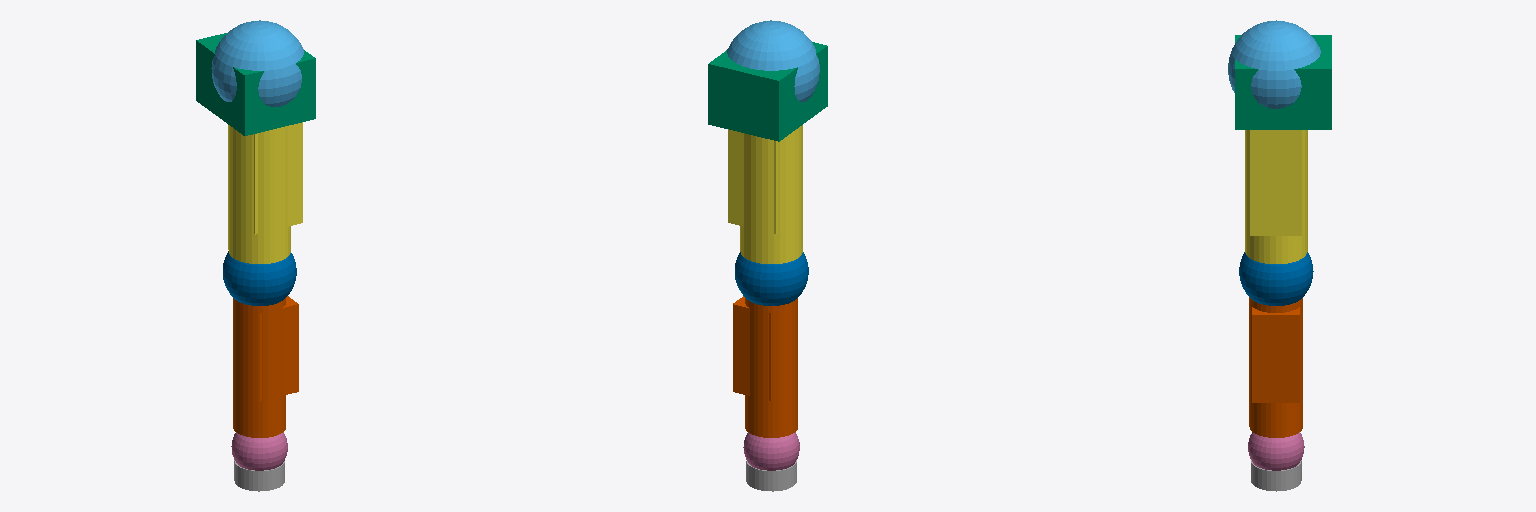
The robot description file, URDF, robot "giorgio_arm_l":
<robot name="giorgio_arm_l">
<link name="base_link"/>
<link name="link1"><inertial><origin xyz="0 0 -0.05"/><mass value="0.8"/><inertia ixx="0.004" iyy="0.004" izz="0.002" ixy="0" ixz="0" iyz="0"/></inertial>
<visual><origin xyz="0 0 0"/><geometry><sphere radius="0.065"/></geometry></visual>
</link>
<joint name="l_shoulder_pitch" type="revolute"><parent link="base_link"/><child link="link1"/><origin xyz="0 0 0"/><axis xyz="0 1 0"/><limit lower="-3.0" upper="1.0" effort="120.0" velocity="3.0"/></joint>
<link name="link2"><inertial><origin xyz="0 0 -0.05"/><mass value="0.9"/><inertia ixx="0.004" iyy="0.004" izz="0.002" ixy="0" ixz="0" iyz="0"/></inertial>
<visual><origin xyz="0 0.01 -0.02"/><geometry><box size="0.11 0.13 0.09"/></geometry></visual>
</link>
<joint name="l_shoulder_roll" type="revolute"><parent link="link1"/><child link="link2"/><origin xyz="0 0 0"/><axis xyz="1 0 0"/><limit lower="-0.35" upper="1.7" effort="120.0" velocity="3.0"/></joint>
<link name="link3"><inertial><origin xyz="0 0 -0.05"/><mass value="1.6"/><inertia ixx="0.004" iyy="0.004" izz="0.002" ixy="0" ixz="0" iyz="0"/></inertial>
<visual><origin xyz="0 0 -0.15"/><geometry><cylinder radius="0.042" length="0.24"/></geometry></visual>
<visual><origin xyz="0.01 0 -0.13999999999999999"/><geometry><box size="0.075 0.07 0.17"/></geometry></visual>
</link>
<joint name="l_shoulder_yaw" type="revolute"><parent link="link2"/><child link="link3"/><origin xyz="0 0 0"/><axis xyz="0 0 1"/><limit lower="-2.2" upper="2.2" effort="60.0" velocity="3.0"/></joint>
<link name="link4"><inertial><origin xyz="0 0 -0.05"/><mass value="0.4"/><inertia ixx="0.004" iyy="0.004" izz="0.002" ixy="0" ixz="0" iyz="0"/></inertial>
<visual><origin xyz="0 0 0"/><geometry><sphere radius="0.05"/></geometry></visual>
</link>
<joint name="l_elbow" type="revolute"><parent link="link3"/><child link="link4"/><origin xyz="0 0 -0.3"/><axis xyz="0 1 0"/><limit lower="-2.6" upper="0.0" effort="60.0" velocity="3.0"/></joint>
<link name="link5"><inertial><origin xyz="0 0 -0.05"/><mass value="1.1"/><inertia ixx="0.004" iyy="0.004" izz="0.002" ixy="0" ixz="0" iyz="0"/></inertial>
<visual><origin xyz="0 0 -0.13"/><geometry><cylinder radius="0.036" length="0.20"/></geometry></visual>
<visual><origin xyz="0.012 0 -0.11"/><geometry><box size="0.06 0.065 0.13"/></geometry></visual>
</link>
<joint name="l_wrist_yaw" type="revolute"><parent link="link4"/><child link="link5"/><origin xyz="0 0 0"/><axis xyz="0 0 1"/><limit lower="-2.6" upper="2.6" effort="20.0" velocity="3.0"/></joint>
<link name="link6"><inertial><origin xyz="0 0 -0.05"/><mass value="0.3"/><inertia ixx="0.004" iyy="0.004" izz="0.002" ixy="0" ixz="0" iyz="0"/></inertial>
<visual><origin xyz="0 0 0"/><geometry><sphere radius="0.038"/></geometry></visual>
</link>
<joint name="l_wrist_pitch" type="revolute"><parent link="link5"/><child link="link6"/><origin xyz="0 0 -0.26"/><axis xyz="0 1 0"/><limit lower="-1.7" upper="1.7" effort="20.0" velocity="3.0"/></joint>
<link name="link7"><inertial><origin xyz="0 0 -0.05"/><mass value="0.25"/><inertia ixx="0.004" iyy="0.004" izz="0.002" ixy="0" ixz="0" iyz="0"/></inertial>
<visual><origin xyz="0 0 -0.015"/><geometry><cylinder radius="0.034" length="0.03"/></geometry></visual>
</link>
<joint name="l_wrist_roll" type="revolute"><parent link="link6"/><child link="link7"/><origin xyz="0 0 -0.02"/><axis xyz="0 0 1"/><limit lower="-2.9" upper="2.9" effort="15.0" velocity="3.0"/></joint>
<link name="tool0"/>
<joint name="l_tool" type="fixed"><parent link="link7"/><child link="tool0"/><origin xyz="0 0 -0.030000000000000002" rpy="3.14159265 0 0"/></joint>
</robot>

--- Render facts (derived) ---
3 views of the same robot in one strip: view 1: azimuth 30°, elevation 25°; view 2: azimuth 150°, elevation 25°; view 3: azimuth 270°, elevation 25° (orthographic).
Model giorgio_arm_l with 9 links and 8 joints (7 revolute, 1 fixed), rooted at base_link, posed all joints at 0.
Links seen in each view (by area): view 1: link3, link5, link1, link2, link4, link6, link7; view 2: link3, link5, link2, link1, link4, link6, link7; view 3: link3, link5, link1, link2, link4, link6, link7.
Boxes of the visible links, x1=… form: link3: x1=228, y1=122, x2=302, y2=263; link5: x1=233, y1=296, x2=298, y2=437; link1: x1=211, y1=20, x2=303, y2=106; link2: x1=196, y1=33, x2=315, y2=135; link4: x1=223, y1=251, x2=296, y2=305; link6: x1=231, y1=432, x2=287, y2=470; link7: x1=234, y1=460, x2=284, y2=491; link3: x1=728, y1=125, x2=802, y2=263; link5: x1=733, y1=296, x2=797, y2=437; link2: x1=708, y1=42, x2=827, y2=141; link1: x1=727, y1=20, x2=819, y2=101; link4: x1=735, y1=252, x2=808, y2=305; link6: x1=743, y1=432, x2=799, y2=470; link7: x1=746, y1=460, x2=796, y2=491; link3: x1=1245, y1=130, x2=1307, y2=263; link5: x1=1249, y1=297, x2=1302, y2=437; link1: x1=1228, y1=20, x2=1320, y2=108; link2: x1=1235, y1=35, x2=1331, y2=129; link4: x1=1239, y1=252, x2=1313, y2=305; link6: x1=1248, y1=432, x2=1304, y2=470; link7: x1=1251, y1=460, x2=1301, y2=491.
Bounding box of the posed robot: 0.13 × 0.14 × 0.675 m (x, y, z).
Geometry: primitives only (box / cylinder / sphere), no mesh files.
